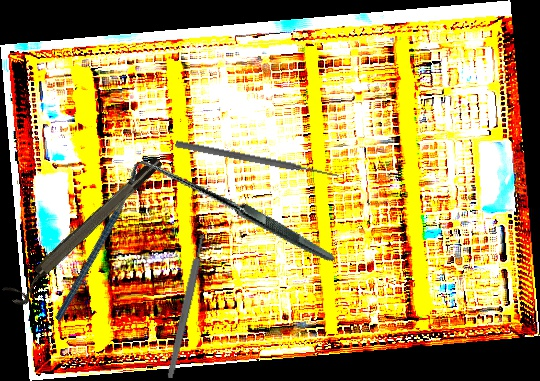Chopper: (14, 167, 175, 323)
Fixation Ring: (2, 153, 171, 310)
Hook Surgical: (124, 106, 336, 322)
Pusher: (174, 139, 341, 181)
Scalpel Handle: (165, 233, 208, 380)
